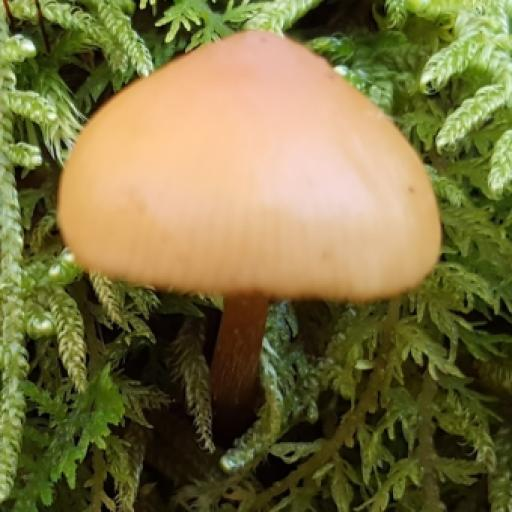mushroom: (54, 26, 445, 376)
